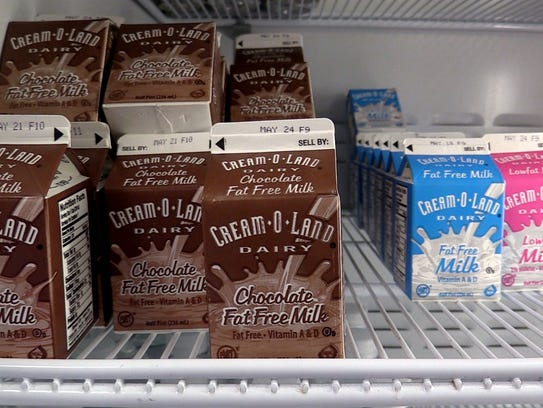Milk_Carton: (207, 127, 345, 364), (104, 120, 230, 333), (1, 122, 85, 357), (401, 143, 501, 303), (111, 24, 221, 134), (2, 20, 101, 122), (485, 135, 543, 292), (234, 38, 314, 122)
